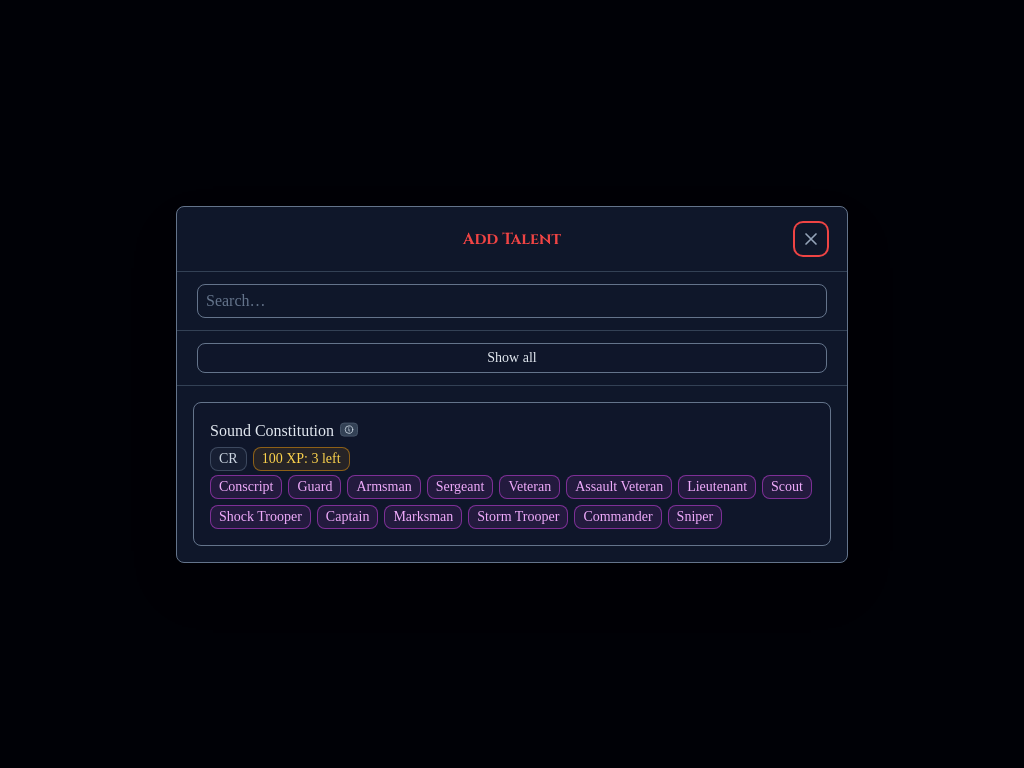
TalentPickerModal, career-aware overflow screen › returns to the overflow screen, not the ranks screen, after backing out of a manual-cost entry
Click the button "Show all" at point(512, 358), box [197,342,827,372]
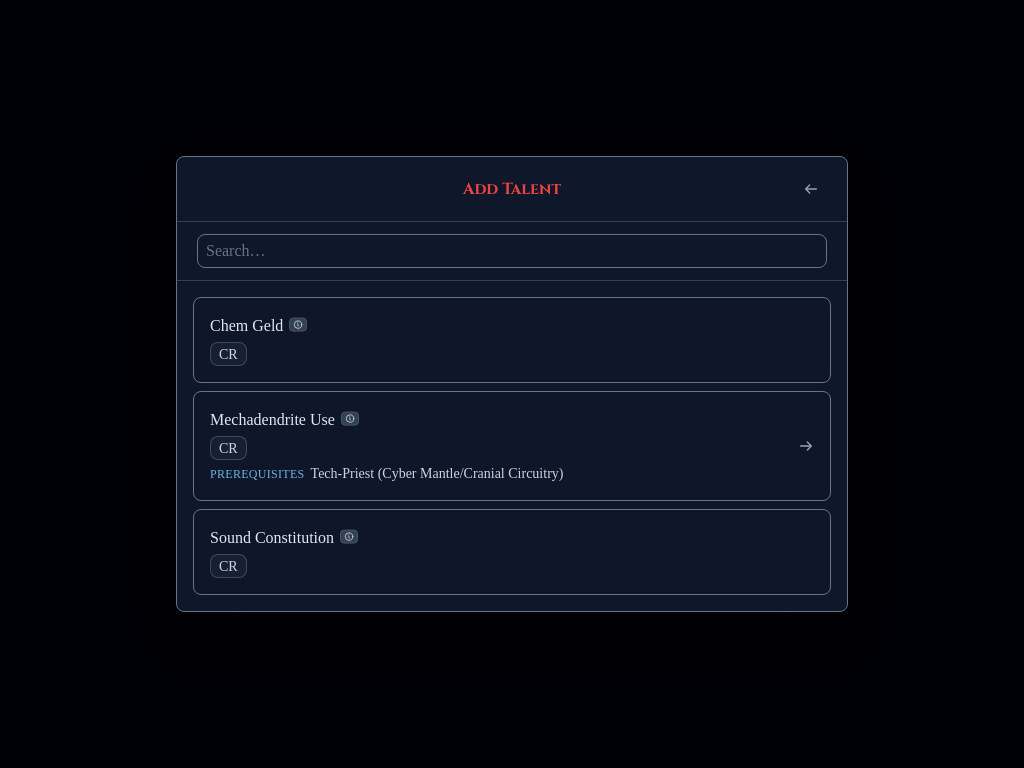
Click the text "Sound Constitution" at point(272, 538), box [210,526,334,550]
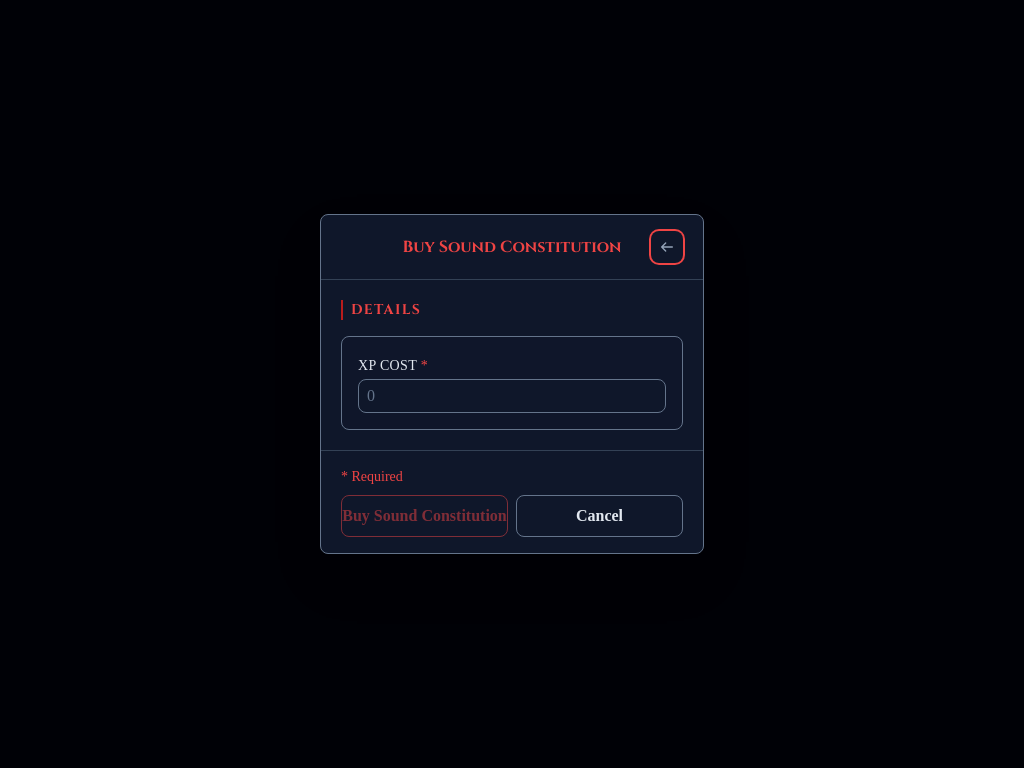
Expected: the text "XP Cost" is shown, [358,358,417,373]
Click the button named "Back" at point(667, 247), box [651,231,683,263]
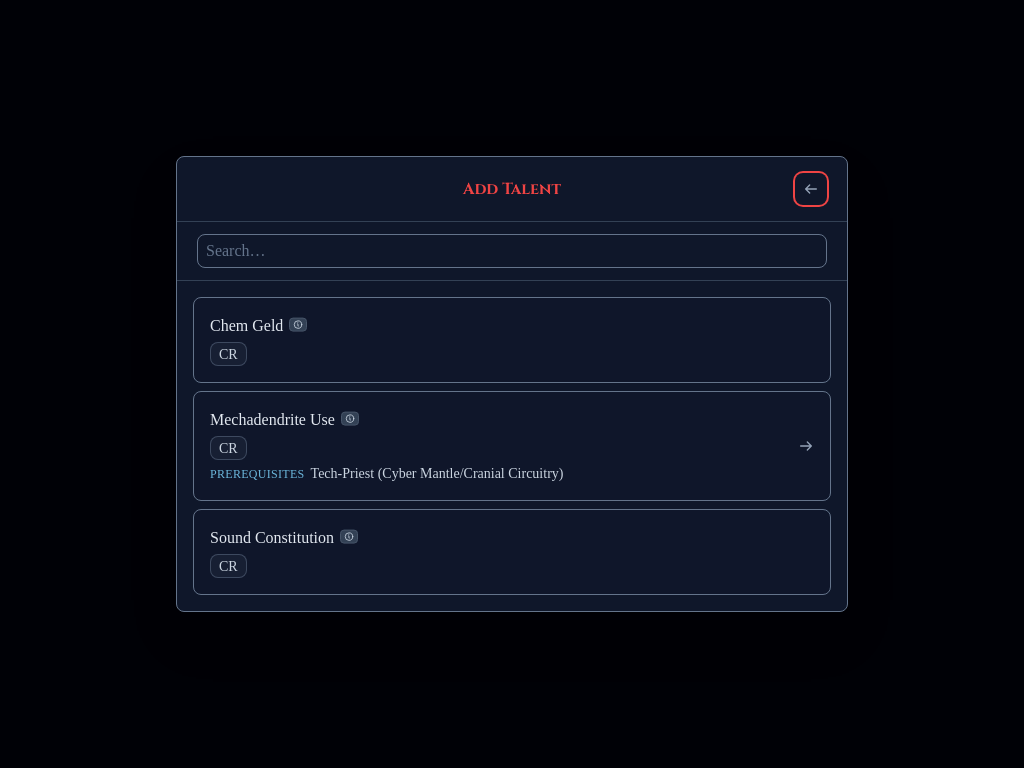
Expected: the button named "Back" is shown, [795,173,827,205]
Expected: the text "Mechadendrite Use" is shown, [210,408,335,432]
